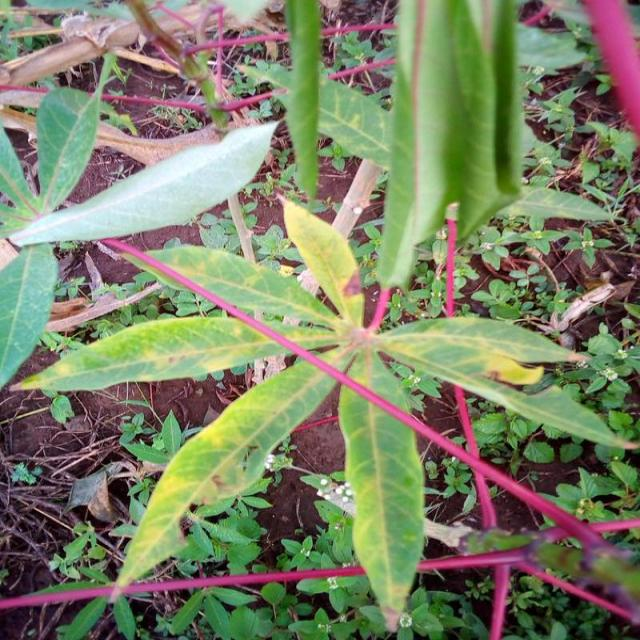cassava leaf: (16, 191, 634, 629), (109, 346, 344, 602), (374, 0, 524, 290), (7, 116, 280, 246), (336, 344, 426, 632)
